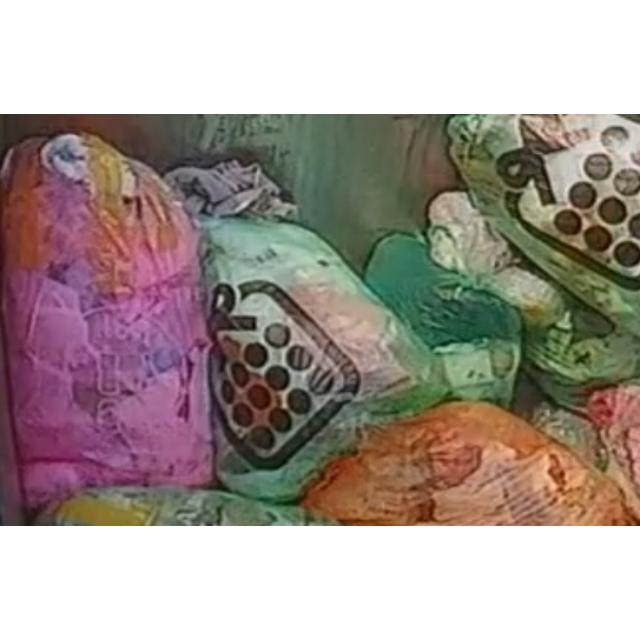general_trashbag: (200, 216, 448, 502), (448, 114, 640, 335)
other_trashbag: (0, 133, 212, 516), (301, 403, 635, 525)
